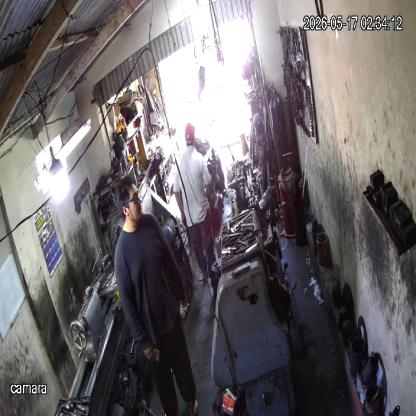lentes: (125, 192, 143, 210)
